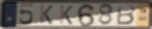5: (19, 3, 35, 26)
6: (77, 2, 96, 28)
8: (98, 3, 114, 27)
B: (115, 4, 137, 26)
K: (39, 4, 54, 26), (59, 4, 74, 26)
